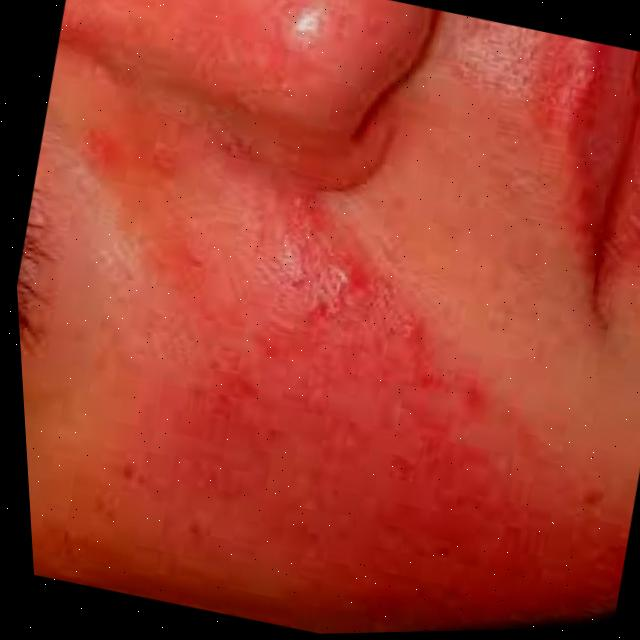Rosacea: (8, 116, 640, 640), (47, 0, 433, 159)
